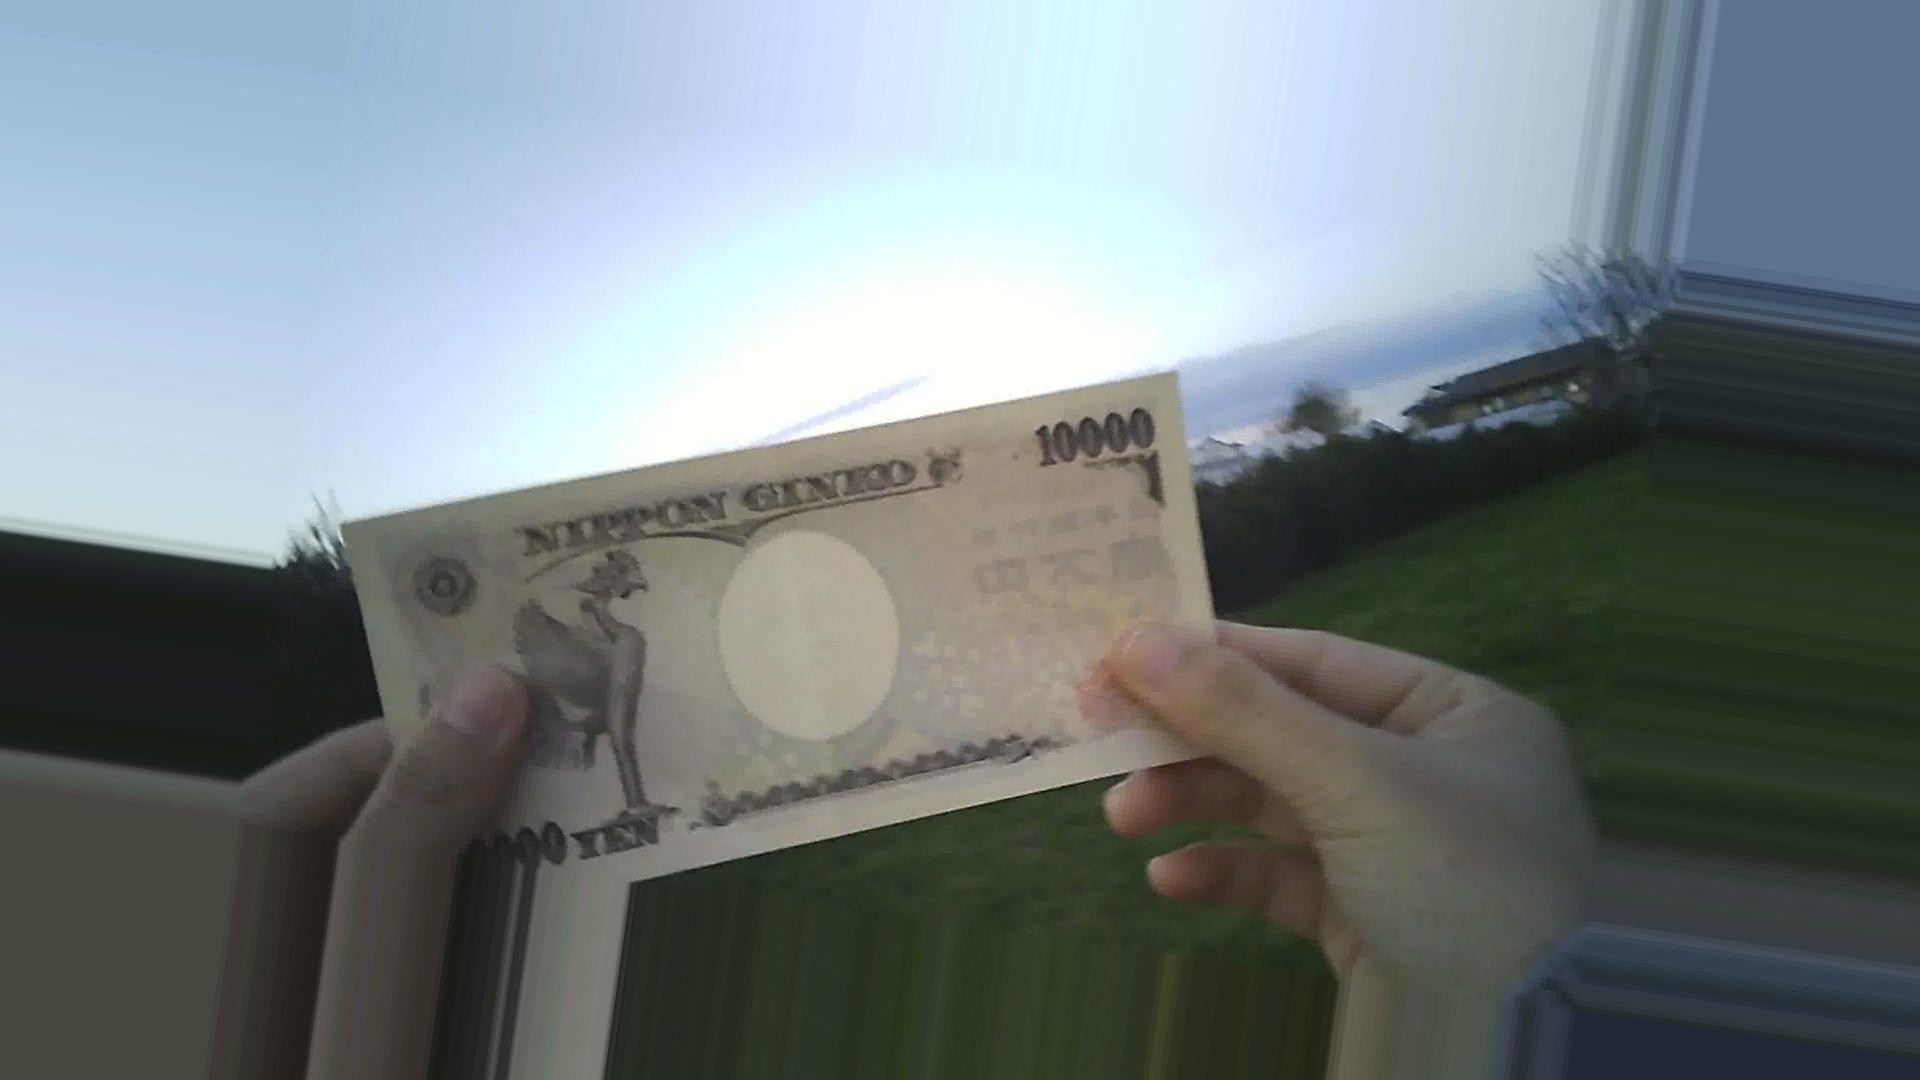10,000 Yen: (315, 386, 1275, 874)
